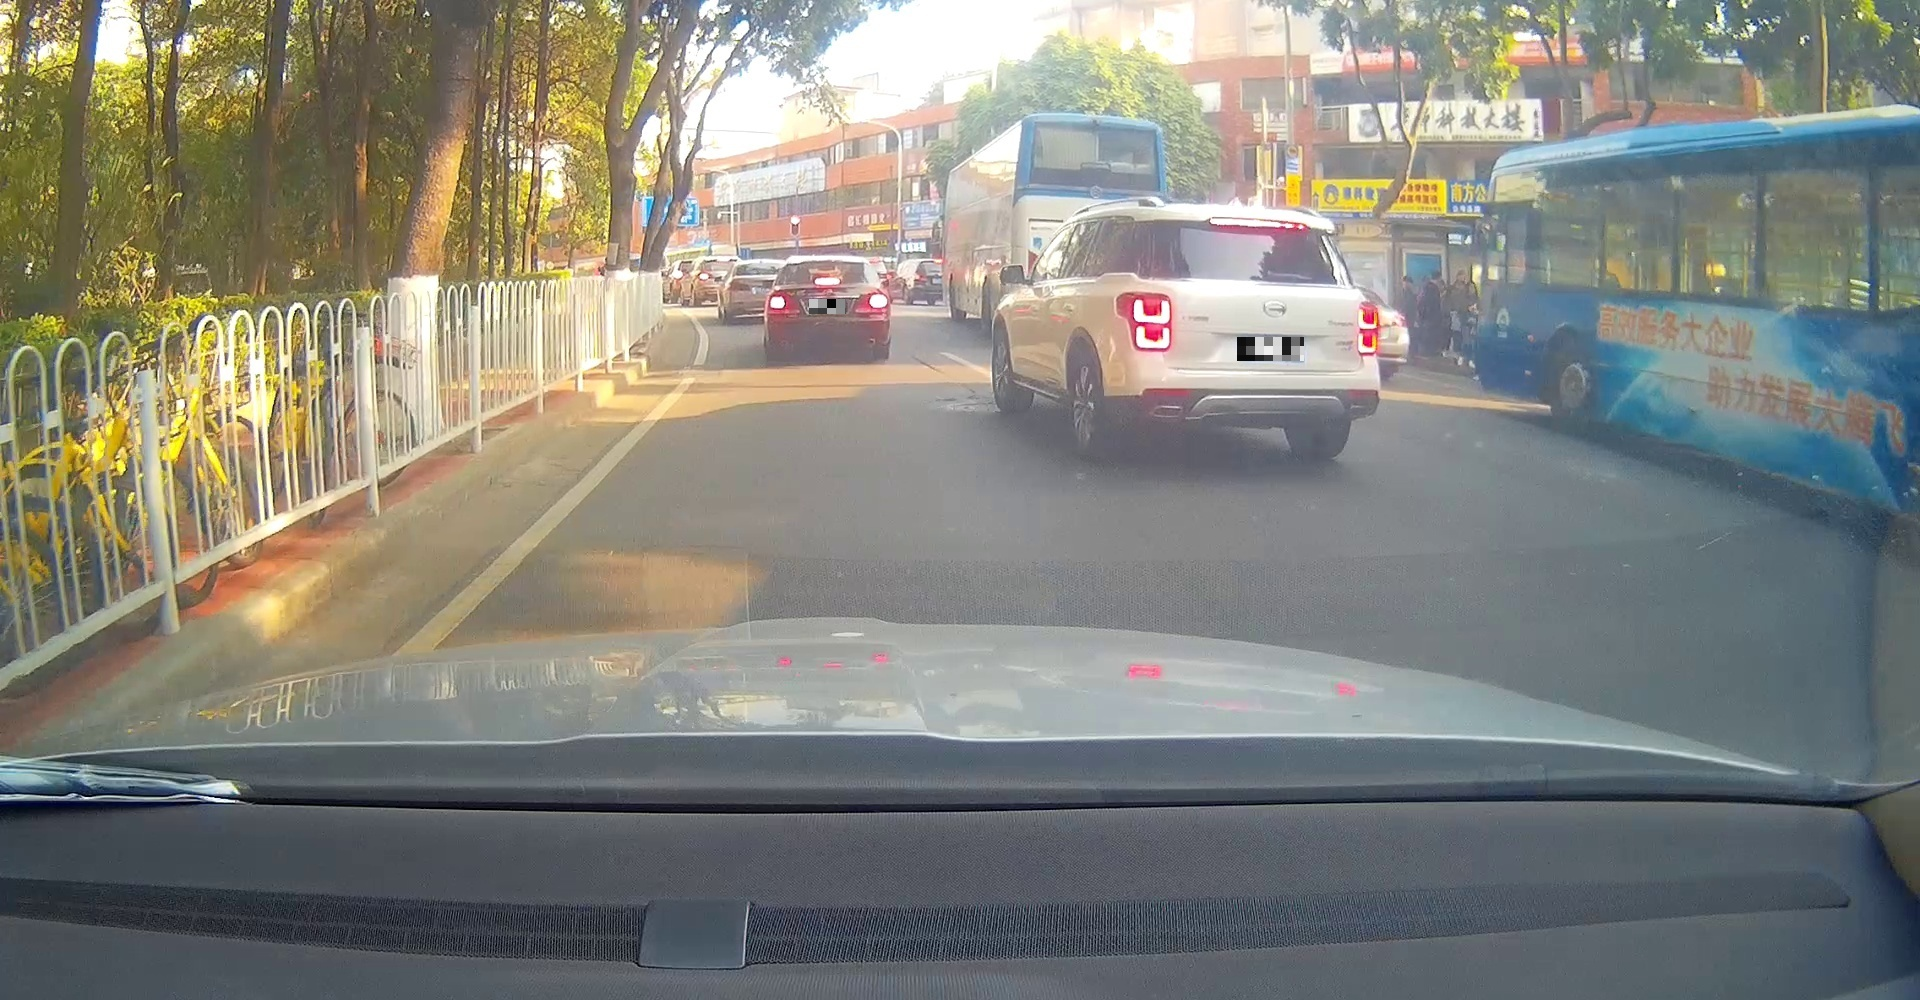L_light: (1114, 291, 1172, 352), (764, 292, 800, 313)
R_light: (1357, 299, 1378, 357), (857, 291, 889, 312)
T_light: (1208, 217, 1307, 234), (814, 277, 841, 286)
day-brake: (1112, 204, 1382, 458), (764, 255, 890, 358)
plate_1: (809, 299, 846, 313)
plate_2: (1237, 338, 1304, 360)
